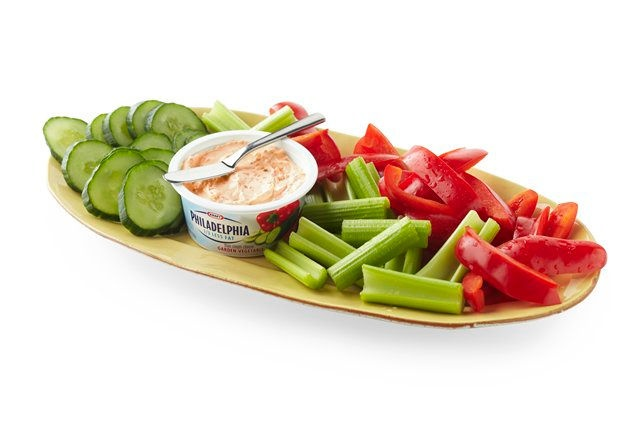background: (263, 81, 607, 209), (42, 66, 298, 158), (123, 41, 304, 136), (70, 21, 251, 113)
